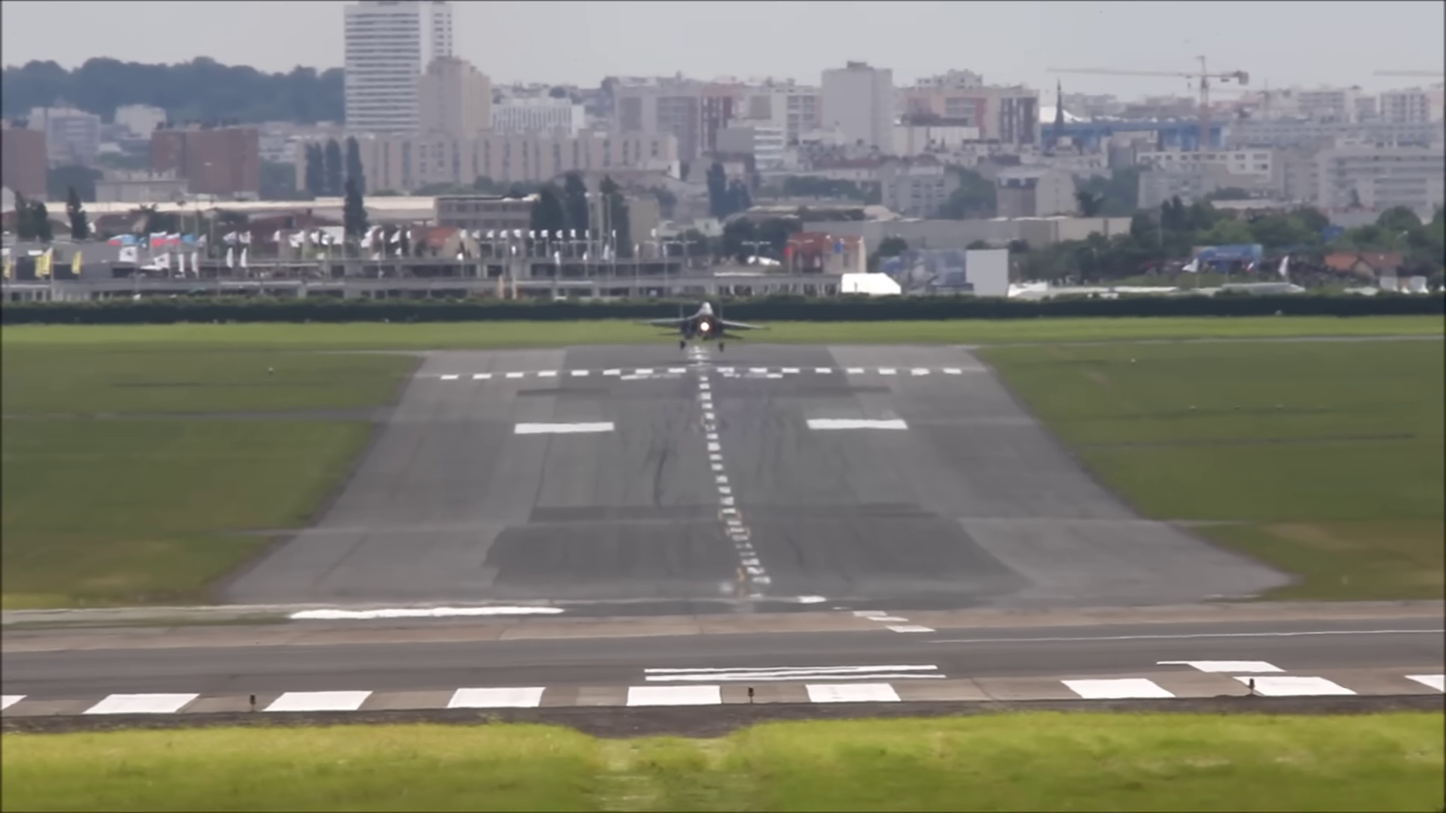Su35: (643, 294, 773, 360)
